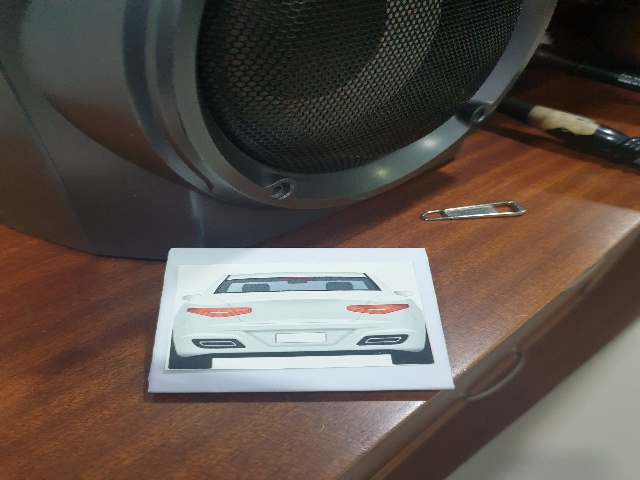Car: (169, 272, 435, 372)
